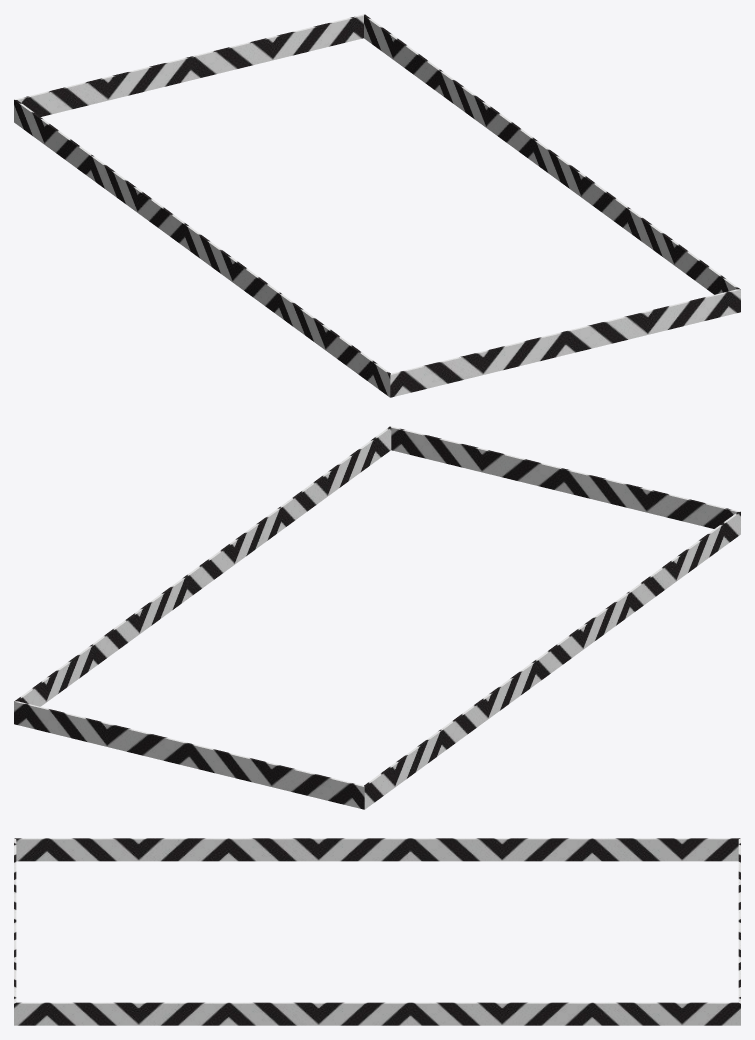
The model's file is Strong.fbx.
The picture shows the model from 3 angles, top to bottom: view 1: azimuth 30°, elevation 25°; view 2: azimuth 150°, elevation 25°; view 3: azimuth 270°, elevation 25°; orthographic projection. The views are drawn at different scales.
Visible parts, largest first — view 1: Left, Right, Forward, Back; view 2: Left, Right, Back, Forward; view 3: Right, Left, Forward, Back.
Part boxes in pixels (box(x1,y1,x2,y2)): Left: box(14, 99, 390, 397); Right: box(364, 14, 740, 294); Forward: box(390, 289, 740, 397); Back: box(15, 14, 364, 116); Left: box(364, 511, 740, 809); Right: box(14, 426, 391, 706); Back: box(14, 701, 364, 809); Forward: box(390, 426, 739, 528); Right: box(14, 1002, 740, 1025); Left: box(14, 838, 740, 861); Forward: box(14, 838, 16, 1003); Back: box(738, 838, 740, 1003).
Size of the model in its own units: 1620 by 100 by 3010.
